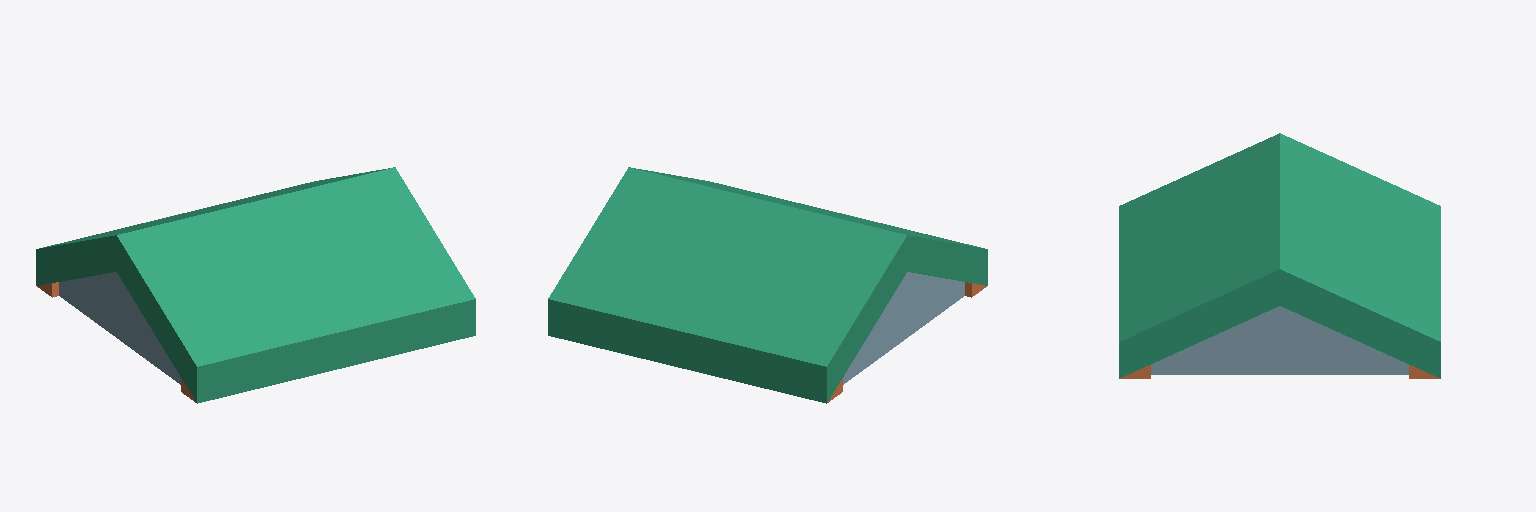
File: roofGableTop.obj
3 renders of one model, left to right at view 1: azimuth 30°, elevation 25°; view 2: azimuth 150°, elevation 25°; view 3: azimuth 270°, elevation 25°, orthographic.
Parts seen in each view (by area): view 1: roofGableTop; view 2: roofGableTop; view 3: roofGableTop.
Part boxes in pixels (left/top/right/bottom): roofGableTop: left=36, top=167, right=475, bottom=403; roofGableTop: left=548, top=167, right=987, bottom=403; roofGableTop: left=1119, top=133, right=1440, bottom=378.
Bounding box in the file's own units: 1 × 0.3759 × 1.